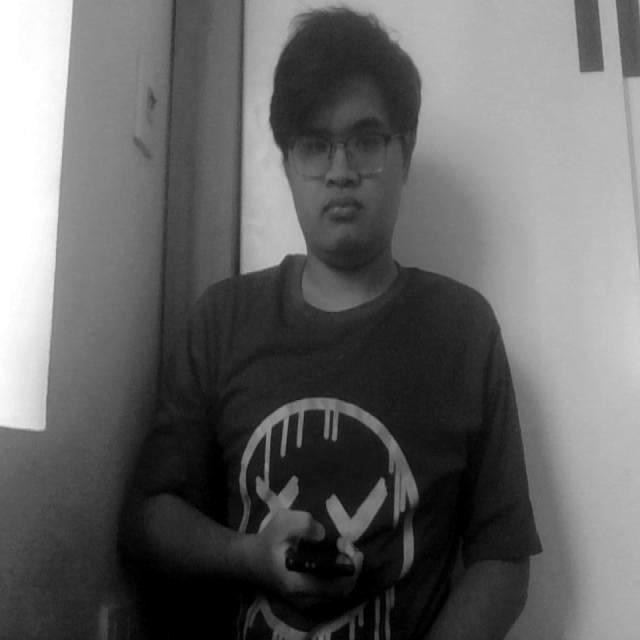phone: (272, 519, 367, 604)
